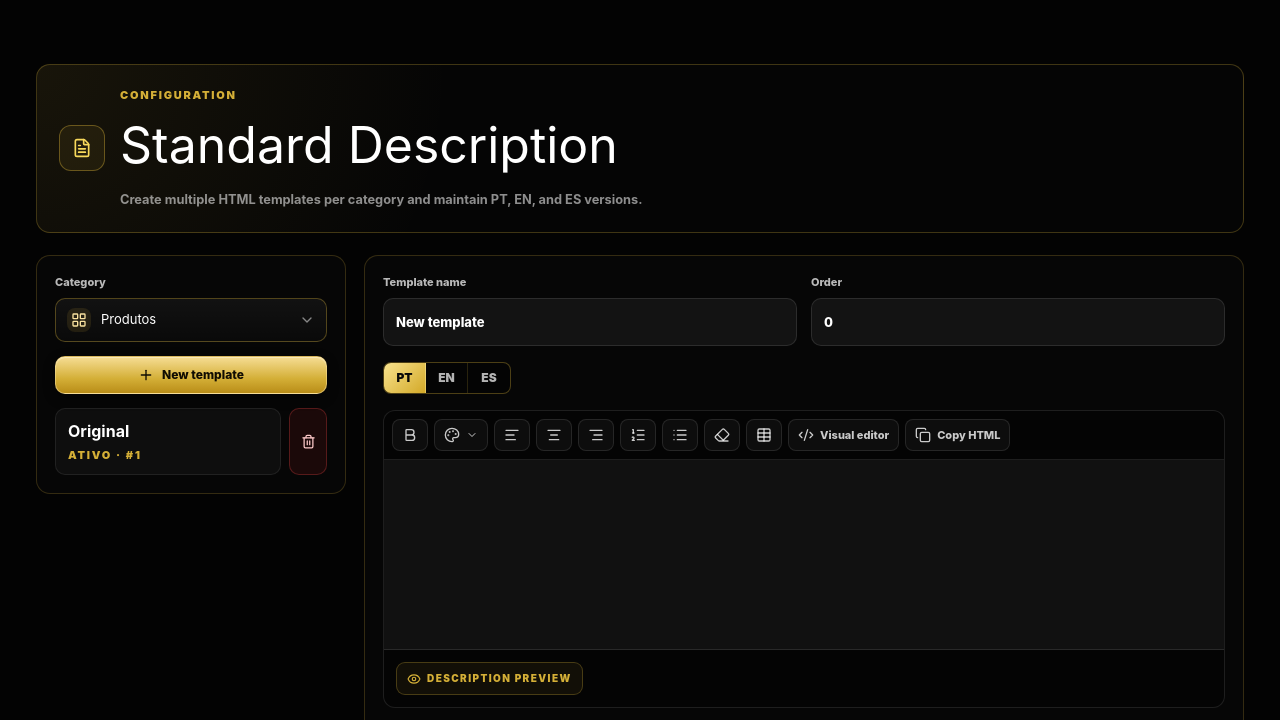
catalog edit conflicts › keeps a description-template draft and its opened version after a conflict
This screenshot has width=1280, height=720.
Click the button "Original Ativo · #1". click: (168, 441)
box: [55, 408, 281, 474]
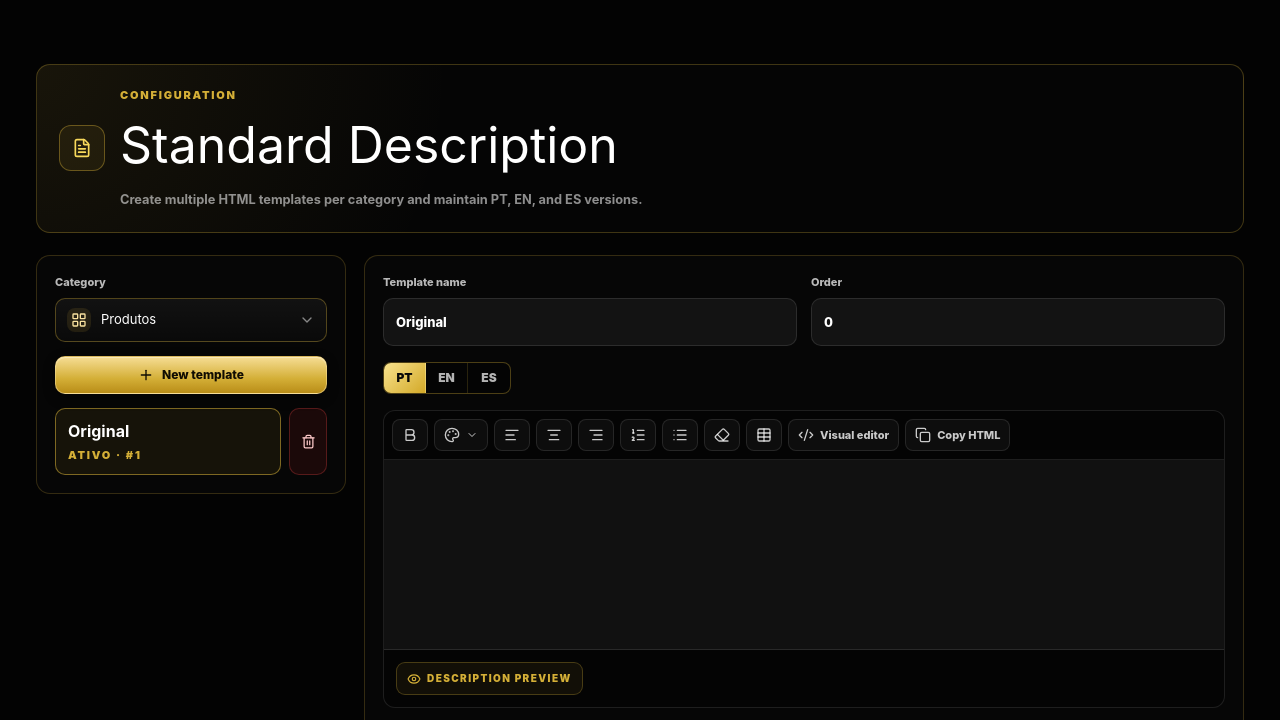
Replace the text in the field showing "Original" with "Meu rascunho". click: (590, 322)
box: [383, 298, 797, 346]
(page scrolled)
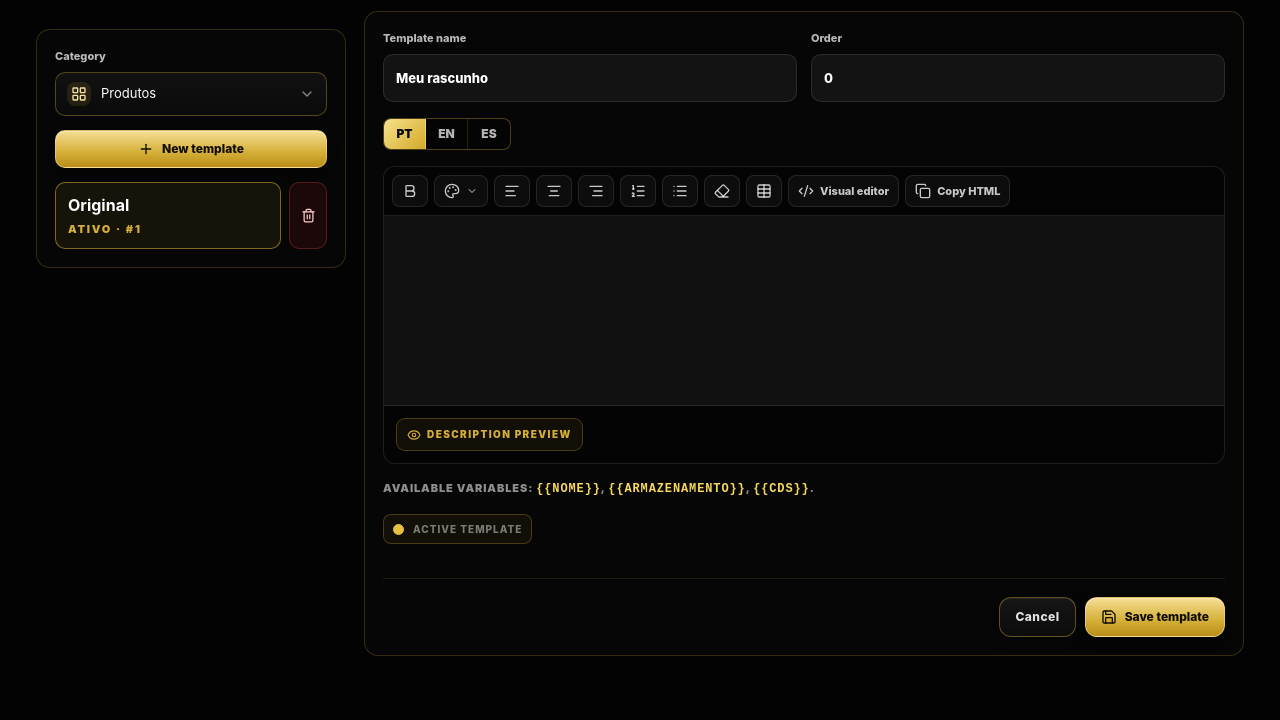
Click the button "Save template". click: (1155, 617)
box: [1085, 597, 1225, 637]
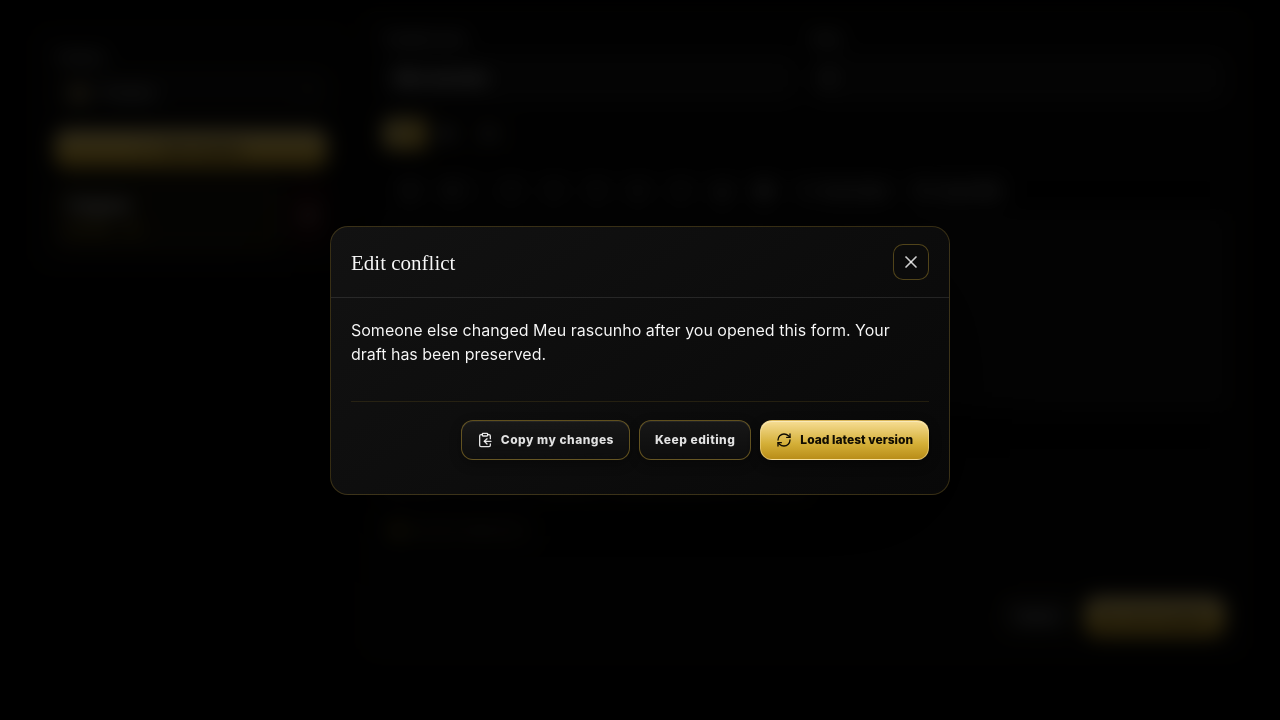
Now the dialog "Edit conflict" is shown, box [330, 226, 950, 494]
